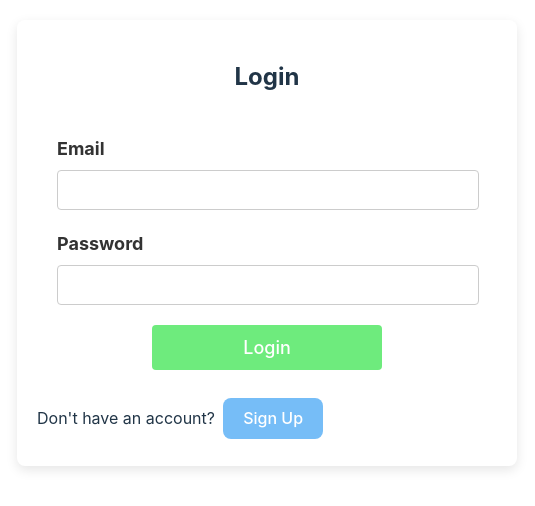
Test: Login Component › shows validation error for invalid email
Type "invalid-email" into the field labelled "Email" at point(268, 190), box x1=57 y1=170 x2=479 y2=210
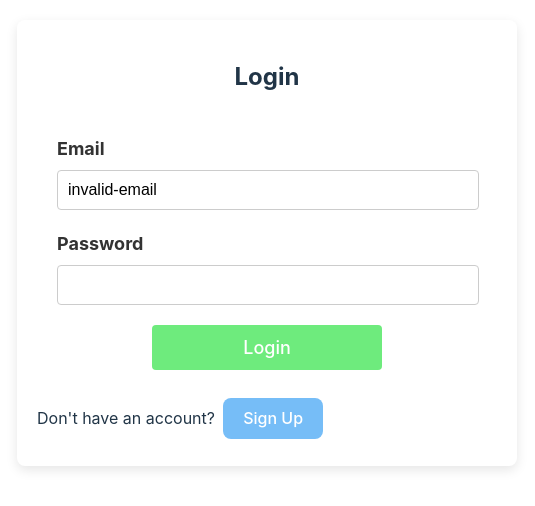
Type "password123" into the password field labelled "Password" at point(268, 286), box x1=57 y1=266 x2=479 y2=306
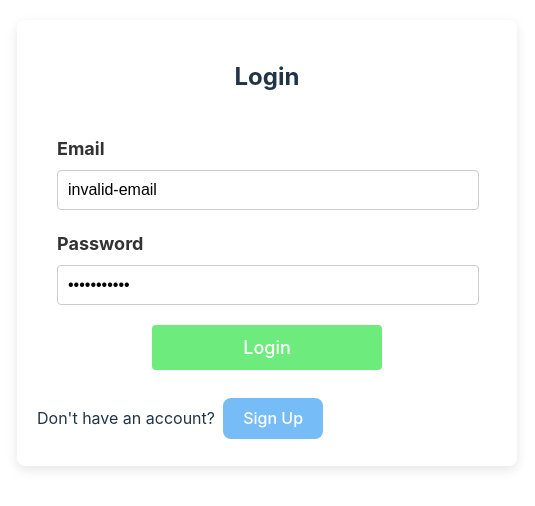
Submit the form from the button "Login", box x1=152 y1=326 x2=382 y2=370
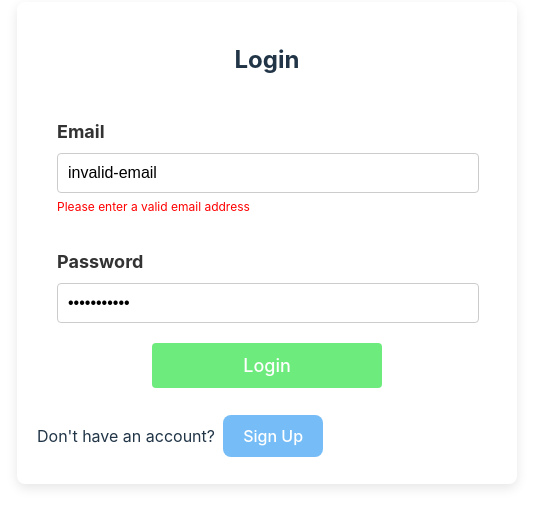
Expected: the text "Please enter a valid email address" is shown, x1=57 y1=199 x2=250 y2=214
